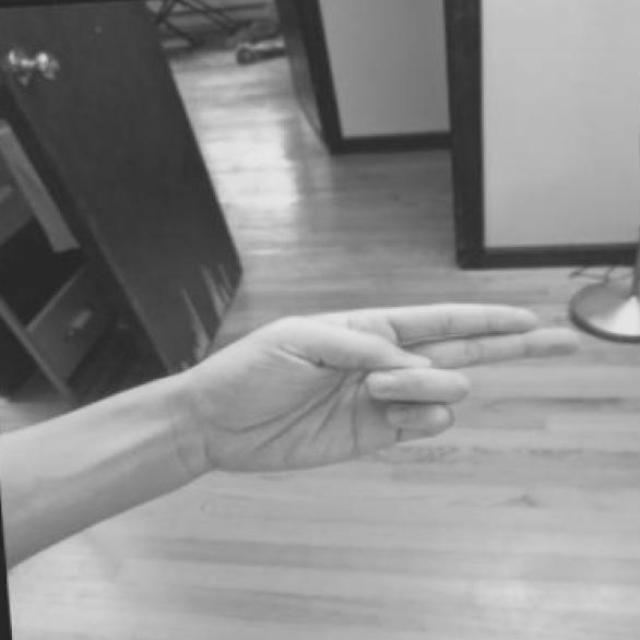H: (100, 284, 591, 475)
